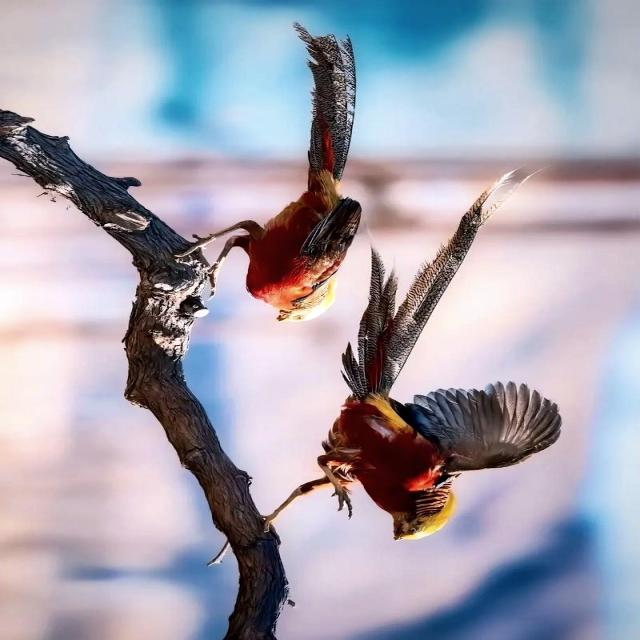Chrysolophus pictus feather: (340, 163, 550, 400), (293, 22, 356, 183)
